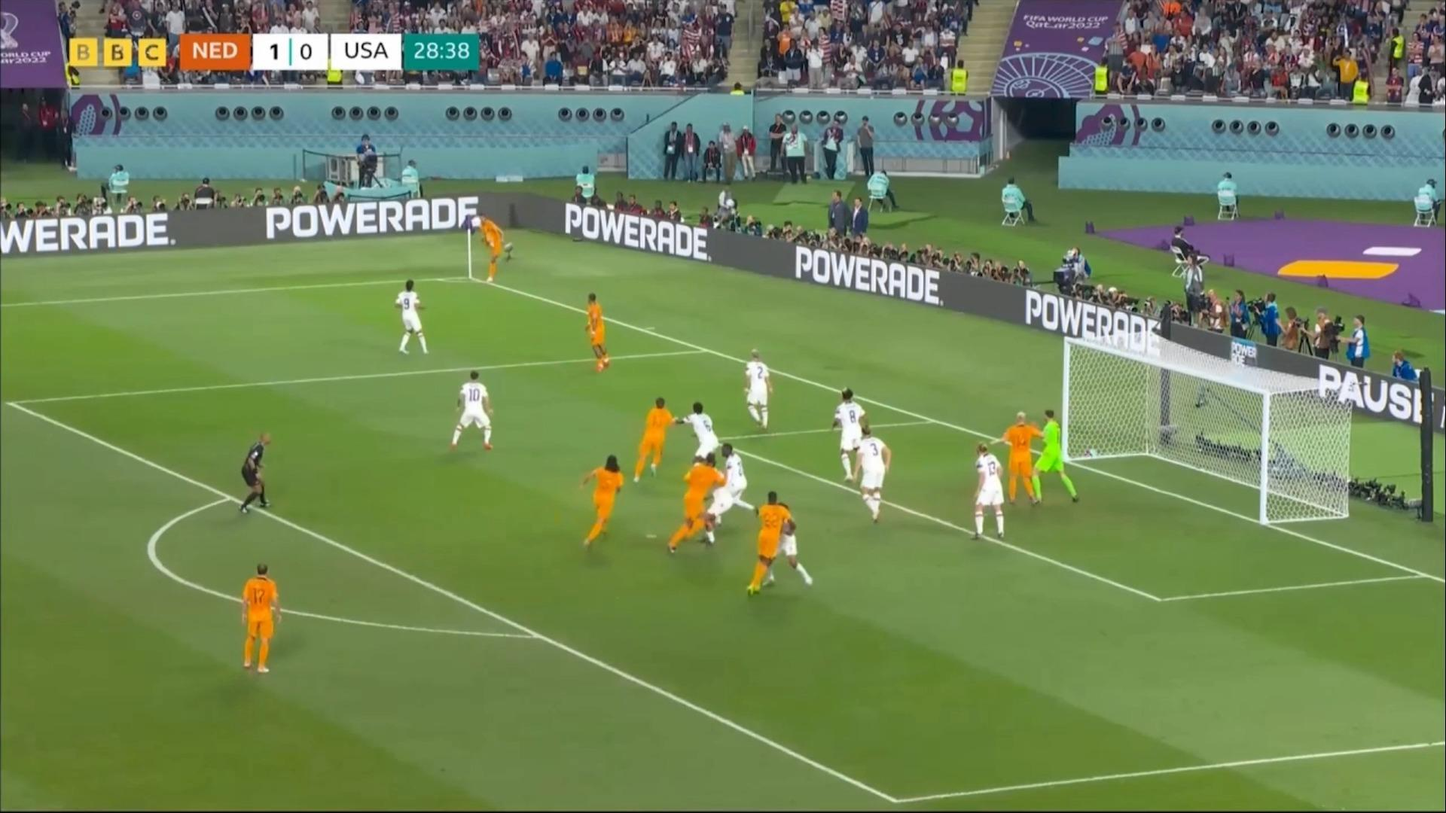Ball: (468, 215, 482, 231)
Player: (666, 452, 726, 557), (744, 492, 799, 599), (574, 453, 622, 554), (240, 563, 283, 675), (849, 422, 894, 527), (1031, 410, 1079, 505), (765, 501, 815, 591), (448, 368, 497, 458), (998, 411, 1043, 508), (707, 443, 756, 526), (829, 386, 871, 480), (671, 400, 723, 474), (736, 349, 780, 435), (634, 397, 677, 483), (969, 442, 1006, 541), (392, 277, 433, 363), (580, 291, 613, 374), (473, 213, 505, 286)
Ref: (238, 432, 276, 517)
